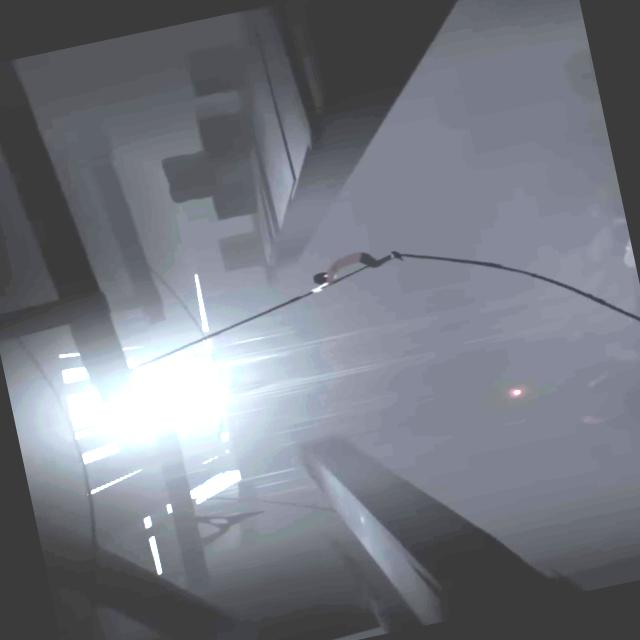boy: (306, 240, 404, 286)
